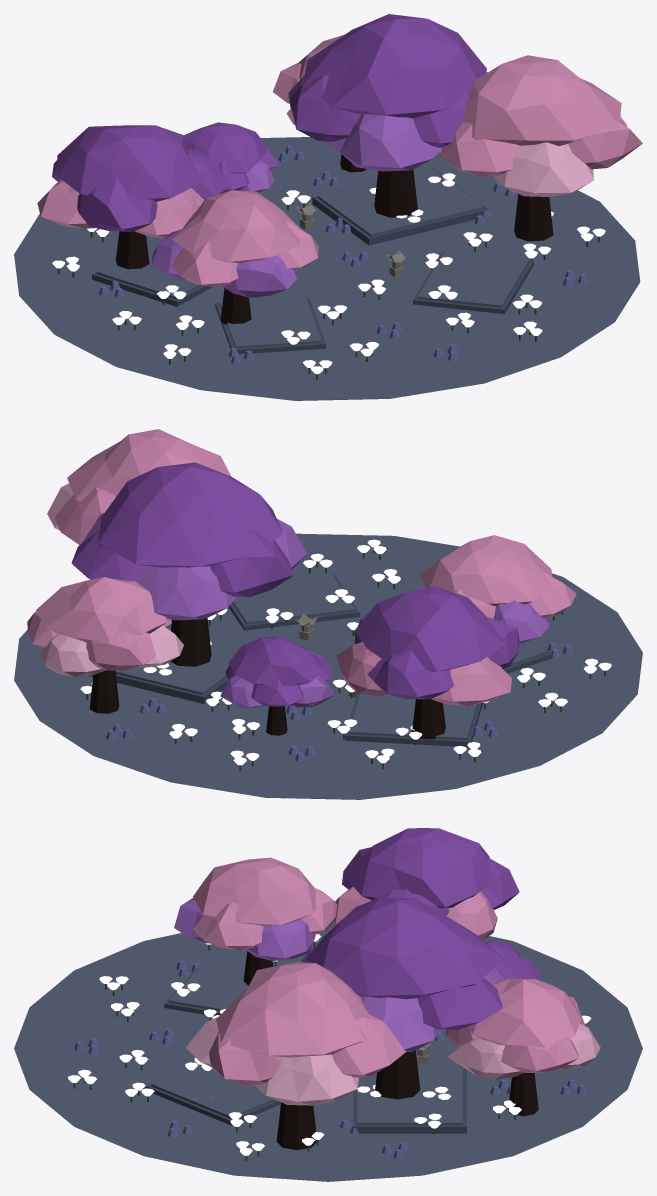
File: muenzuka.glb
3 renders of one model, top to bottom at view 1: azimuth 30°, elevation 25°; view 2: azimuth 150°, elevation 25°; view 3: azimuth 270°, elevation 25°, orthographic.
Visible parts, largest first — view 1: Muenzuka_Opaque, Muenzuka_Emissive; view 2: Muenzuka_Opaque, Muenzuka_Emissive; view 3: Muenzuka_Opaque, Muenzuka_Emissive.
Boxes of the visible parts, x1,y1,x2,y2 form: Muenzuka_Opaque: (14, 14, 642, 400); Muenzuka_Emissive: (52, 173, 605, 374); Muenzuka_Opaque: (14, 429, 642, 799); Muenzuka_Emissive: (80, 539, 611, 765); Muenzuka_Opaque: (14, 828, 642, 1181); Muenzuka_Emissive: (68, 934, 591, 1155).
Bounding box in the file's own units: 51.08 × 17.9 × 50.
